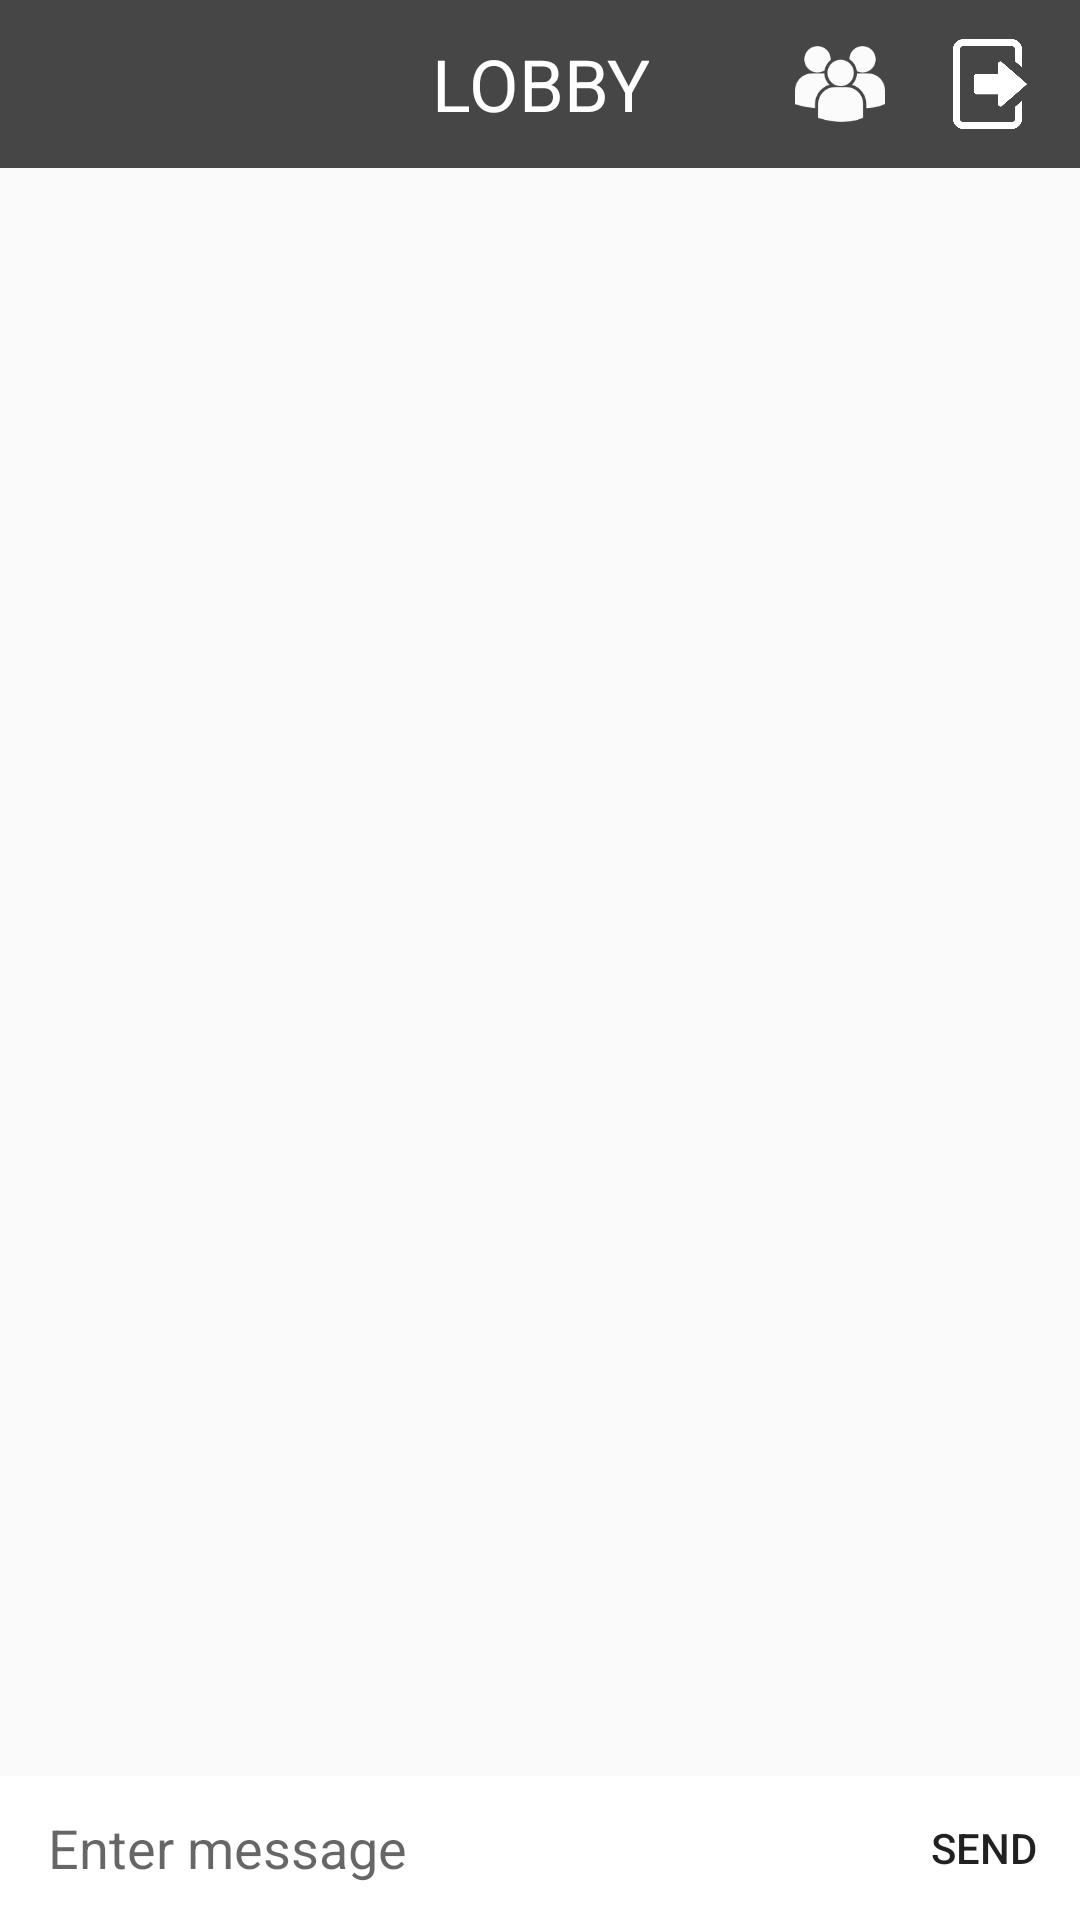

Where icons sit on this 1080w x 1920h app screen, as BBox(x1, y1, x2, y2):
groupusers: BBox(795, 46, 885, 122)
leavelobby: BBox(953, 39, 1027, 129)
